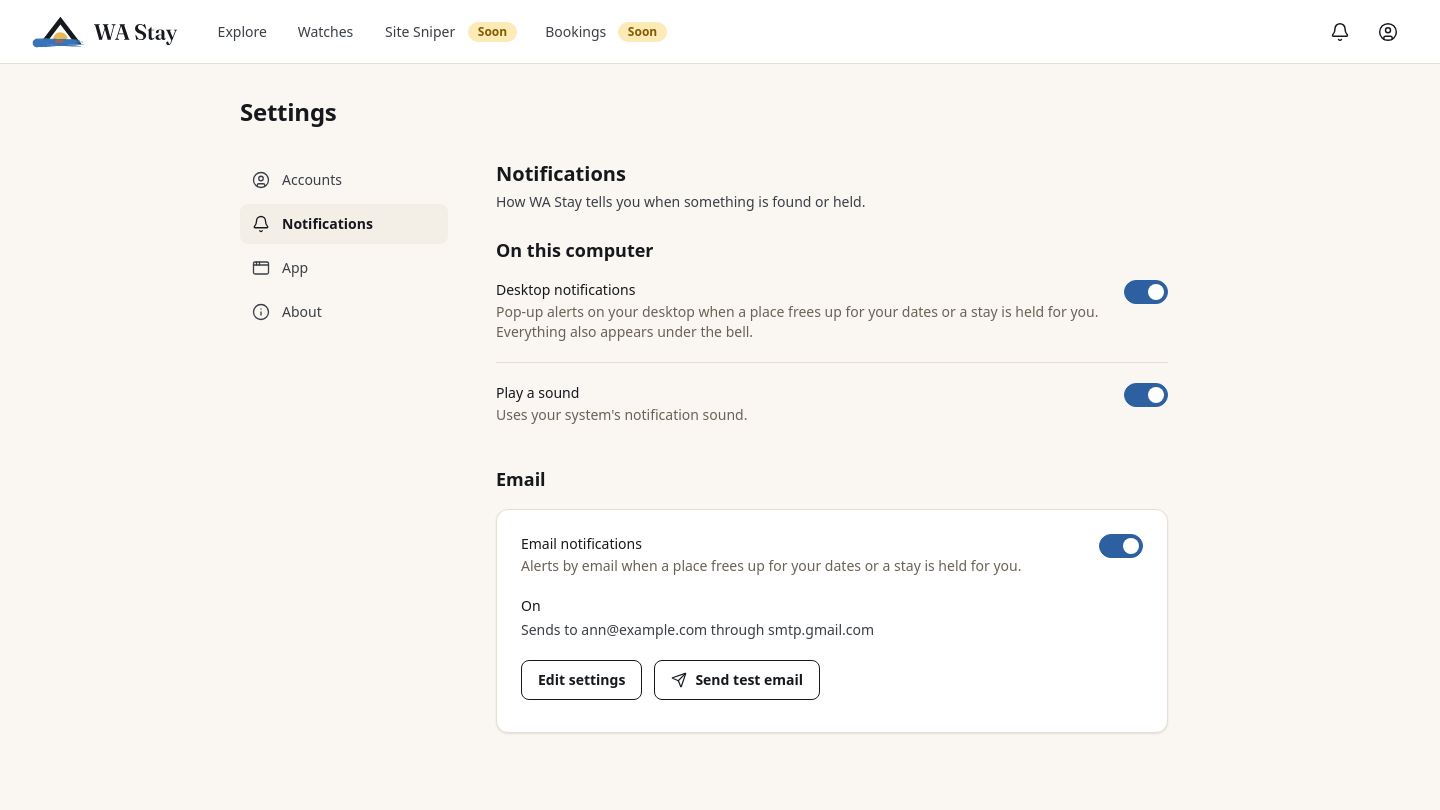
Test case: EmailNotifierCard: test email and on/off › a failed test says what went wrong in plain words, and the status shows the error
Expected: the text "On" is shown, top-left (521, 596), bottom-right (541, 615)
What coordinates should you click on to do the following:
click the button "Send test email"
I would click on:
 (737, 680)
Its box is top-left (654, 660), bottom-right (820, 700).
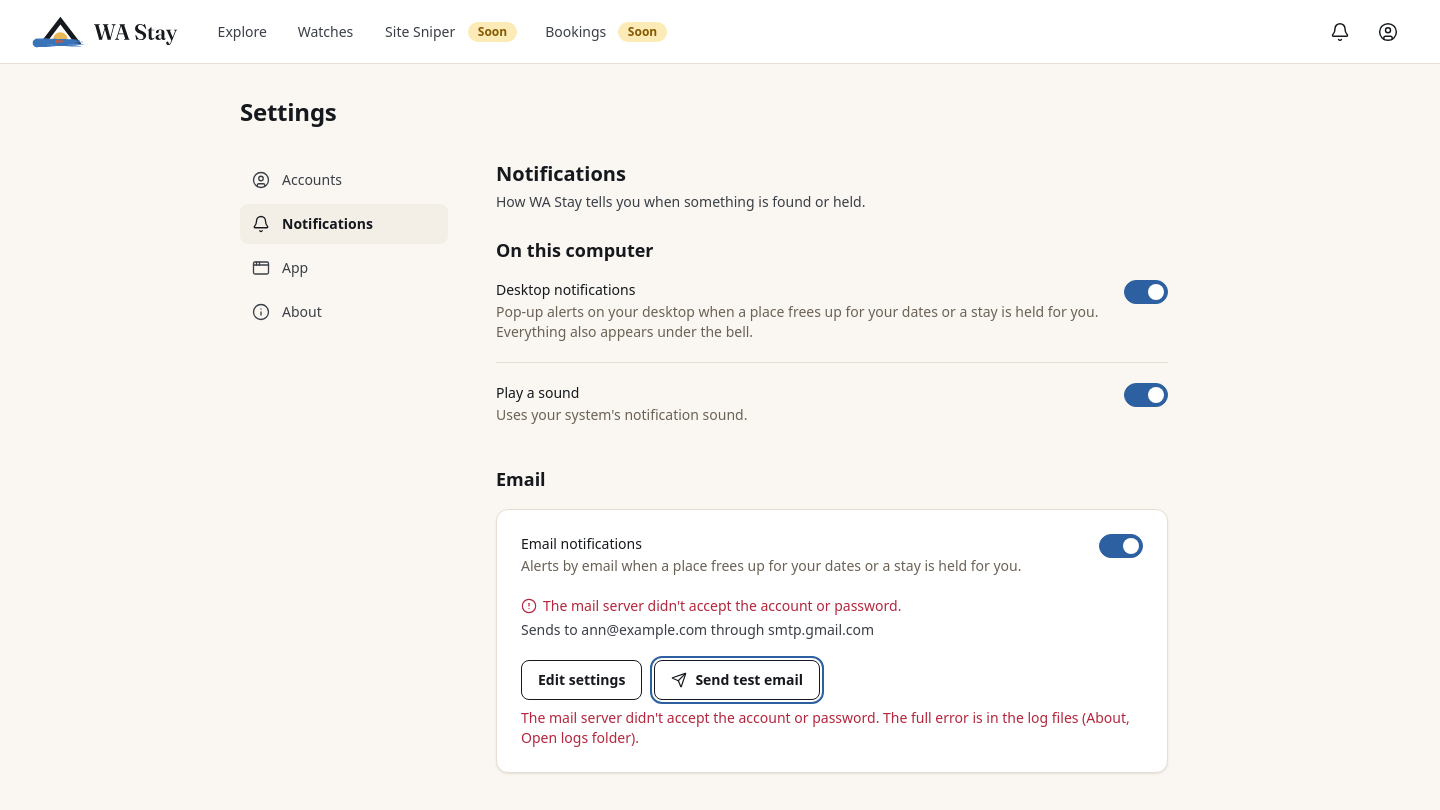
Now the text "The mail server didn't accept the account or password. The full error is in the log files (About, Open logs folder)." is shown, box top-left (521, 708), bottom-right (1130, 747)
Now the text "The mail server didn't accept the account or password." is shown, box top-left (521, 596), bottom-right (901, 615)
